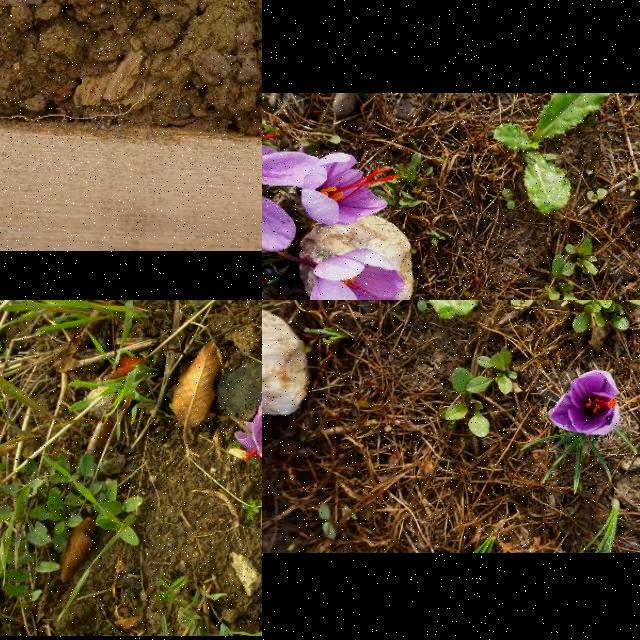flower: (262, 116, 319, 253), (301, 152, 395, 224), (310, 250, 406, 300), (548, 370, 618, 436)
overlap: (262, 114, 320, 300)
